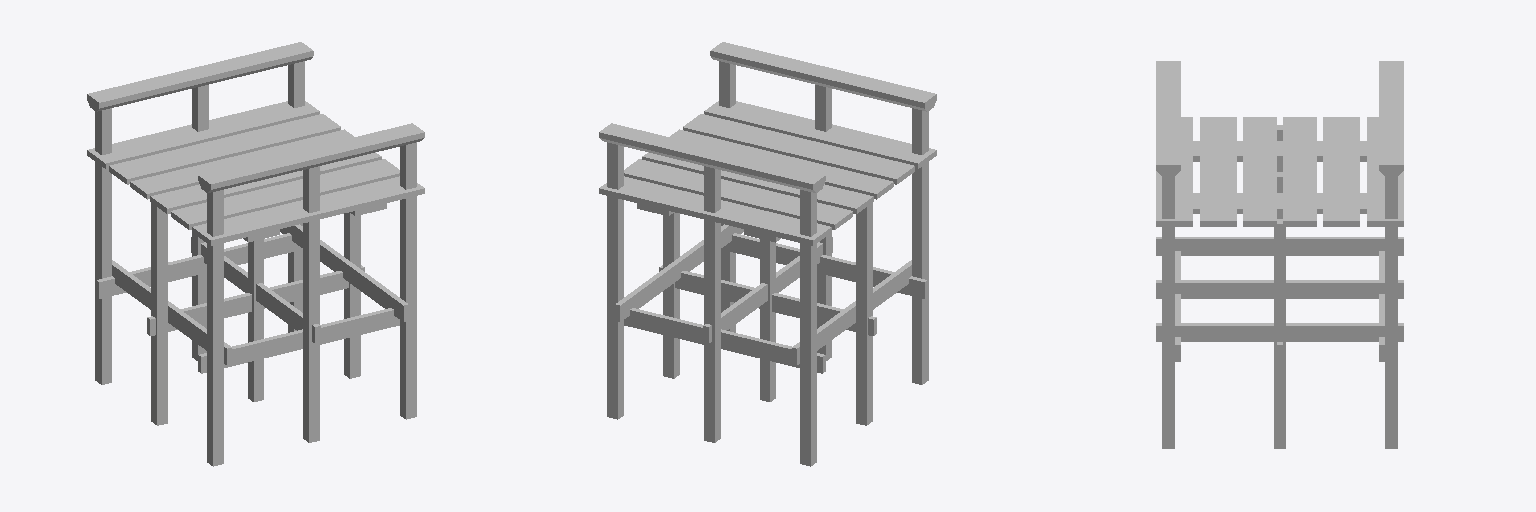
File: scaffold_high_railing.obj
The picture shows the model from 3 angles: view 1: azimuth 30°, elevation 25°; view 2: azimuth 150°, elevation 25°; view 3: azimuth 270°, elevation 25°; orthographic projection.
Visible parts, largest first — view 1: scaffold_high_railing_Cube.2469; view 2: scaffold_high_railing_Cube.2469; view 3: scaffold_high_railing_Cube.2469.
Boxes of the visible parts, box(x1,y1,x2,y2) form: scaffold_high_railing_Cube.2469: box(87, 42, 424, 466); scaffold_high_railing_Cube.2469: box(599, 42, 936, 466); scaffold_high_railing_Cube.2469: box(1156, 61, 1403, 448).
Bounding box in the file's own units: 4 × 5.1 × 4.